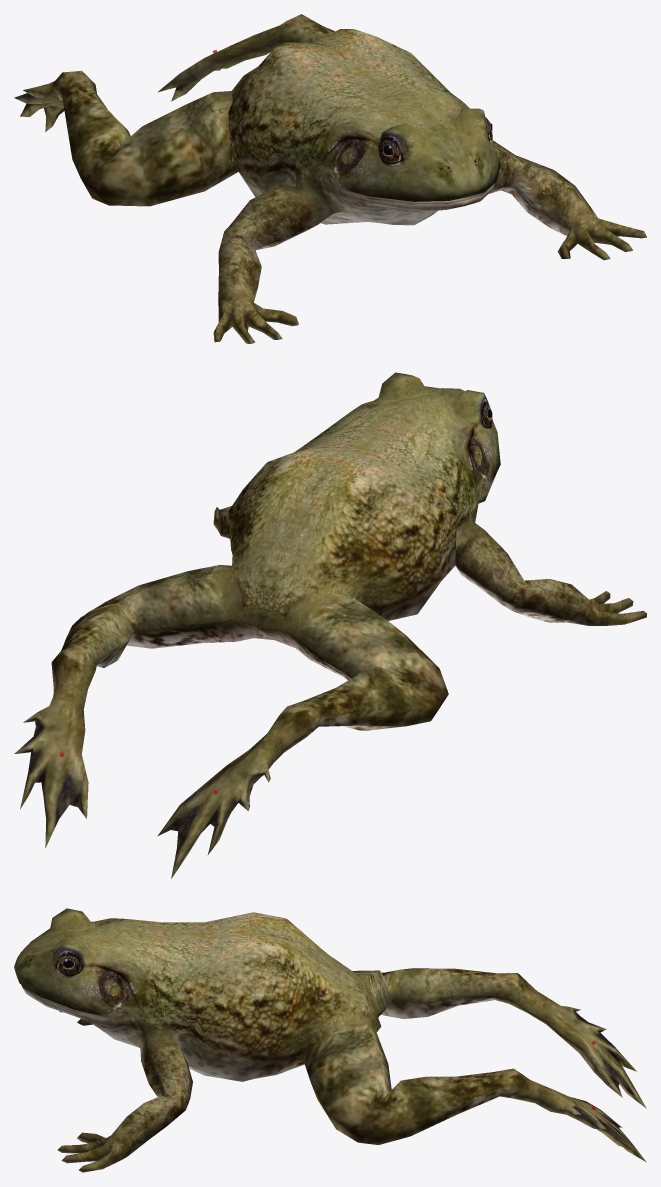
The model's file is NABF.obj.
3 views of the same model, one above another, from view 1: azimuth 30°, elevation 25°; view 2: azimuth 150°, elevation 25°; view 3: azimuth 270°, elevation 25° (orthographic). The views are drawn at different scales.
Parts seen in each view (by area): view 1: NABF; view 2: NABF; view 3: NABF.
Boxes of the visible parts, box(x1,y1,x2,y2) form: NABF: box(14, 14, 646, 343); NABF: box(14, 372, 646, 878); NABF: box(14, 908, 646, 1172).
Bounding box in the file's own units: 0.3642 × 0.1935 × 0.5274.
Materials: 3 (1 with a texture image).
